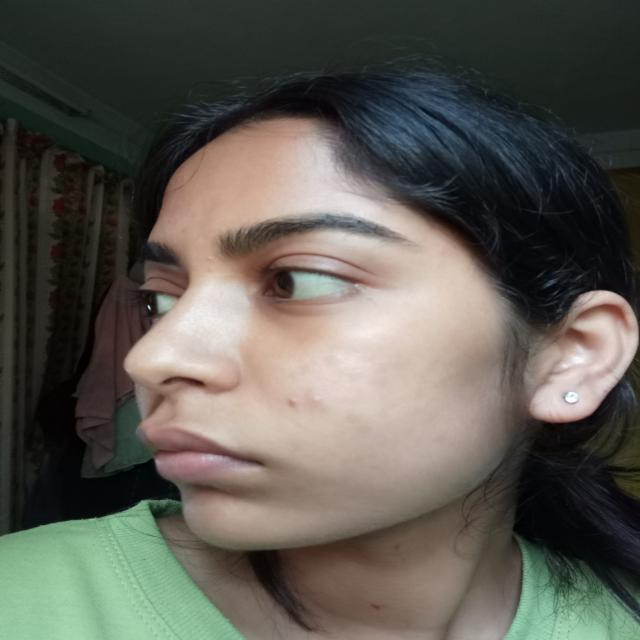Acne: (309, 392, 325, 408), (204, 254, 215, 274), (285, 394, 300, 408)
